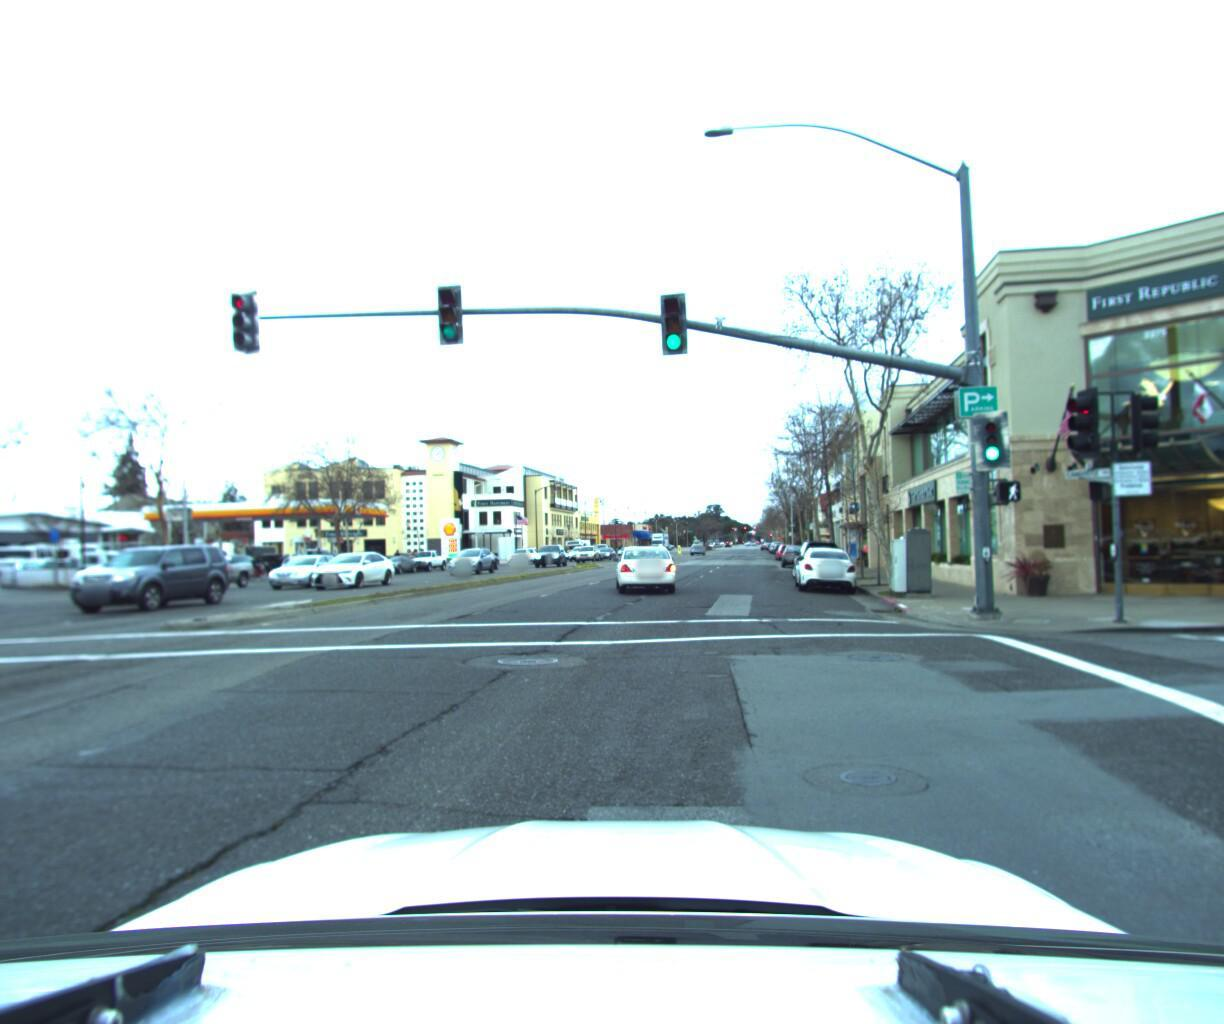car: (62, 543, 248, 618), (146, 552, 264, 595), (609, 535, 684, 593), (123, 542, 219, 586), (0, 560, 62, 627), (310, 548, 403, 590), (791, 539, 861, 592), (73, 547, 164, 587), (265, 551, 356, 589), (0, 542, 68, 585), (789, 534, 846, 579), (0, 556, 50, 588), (450, 545, 501, 575), (403, 546, 452, 570), (779, 540, 811, 564), (534, 542, 567, 564), (503, 544, 541, 562), (575, 544, 602, 562)
other_vehicle: (0, 538, 112, 580), (233, 540, 285, 569)
